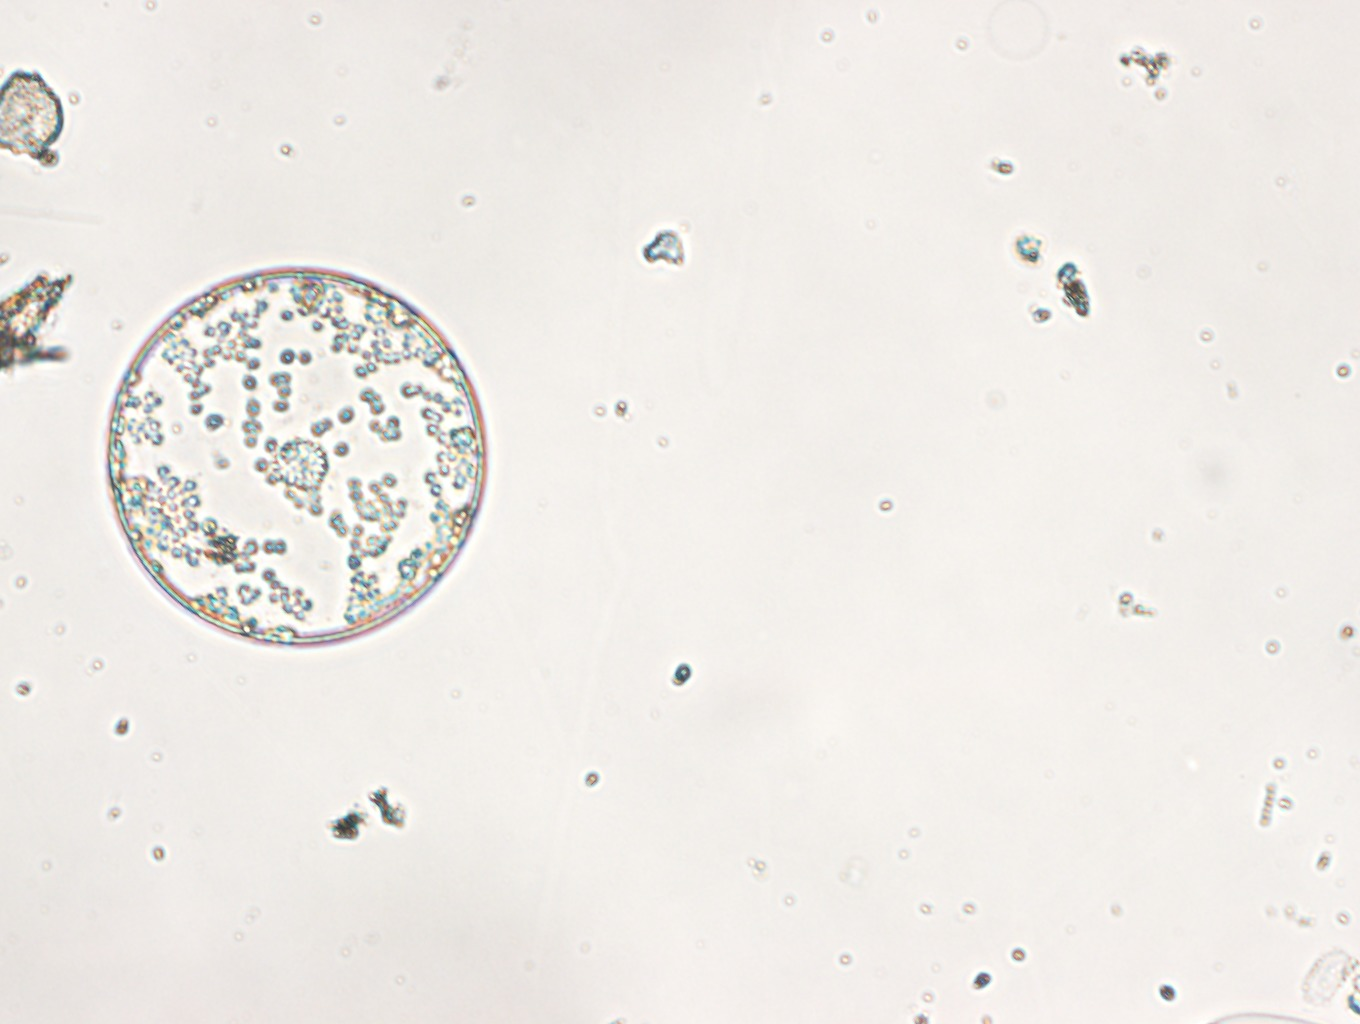coscinodiscus: (99, 254, 491, 646)
